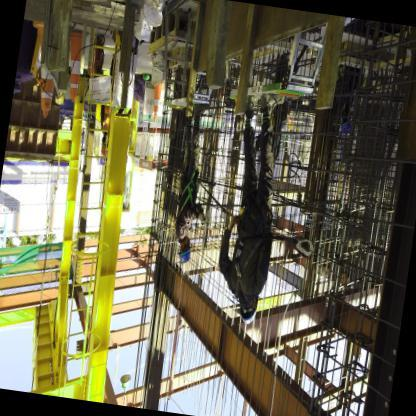safety-shoe: (258, 87, 287, 116), (191, 100, 211, 121), (245, 95, 257, 115)
